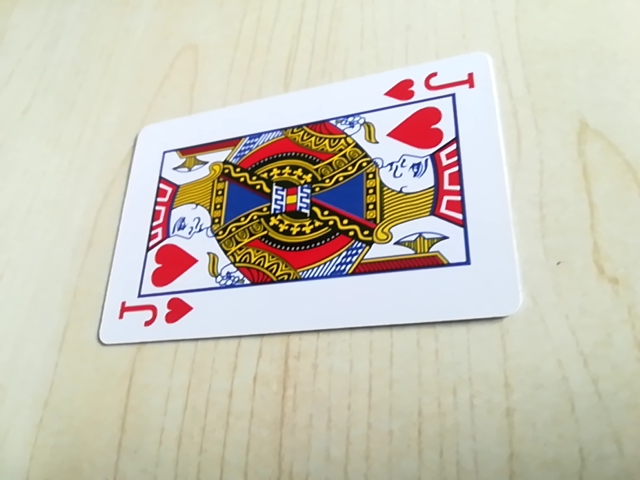hx j: (383, 65, 480, 104), (115, 292, 197, 338)
